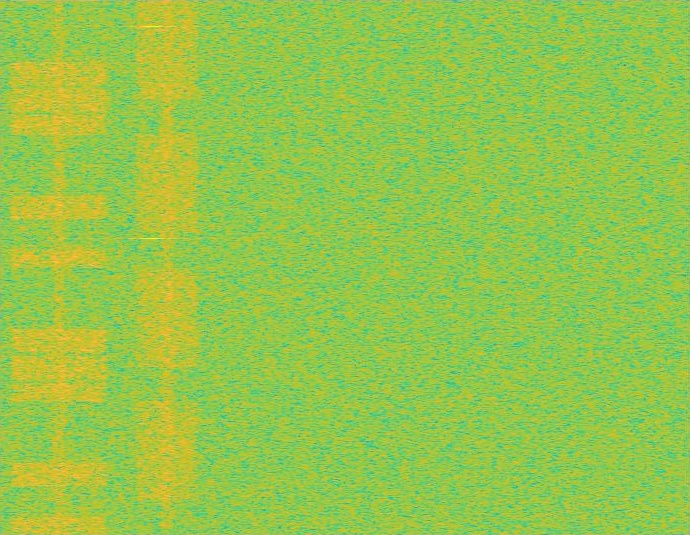5G: (133, 0, 202, 534)
DSSS: (160, 0, 175, 534), (52, 0, 66, 534)
LTE: (7, 0, 111, 534)
Radar: (145, 0, 159, 534)
